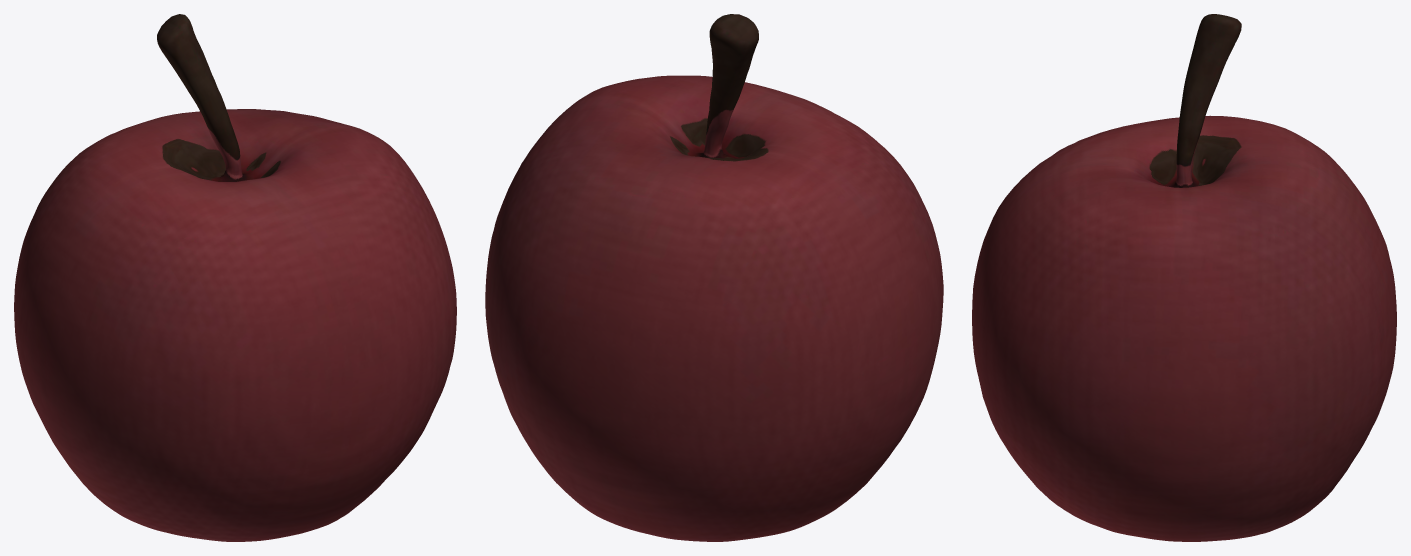
File: red_apple.glb
3 renders of one model, left to right at view 1: azimuth 30°, elevation 25°; view 2: azimuth 150°, elevation 25°; view 3: azimuth 270°, elevation 25°, orthographic. The views are drawn at different scales.
Visible parts, largest first — view 1: mesh; view 2: mesh; view 3: mesh.
Part boxes in pixels (box(x1,y1,x2,y2)): mesh: box(14, 14, 456, 541); mesh: box(485, 14, 943, 541); mesh: box(972, 14, 1396, 541).
Bounding box in the file's own units: 0.835 × 0.9995 × 0.8218.
1 material, 1 textured.
